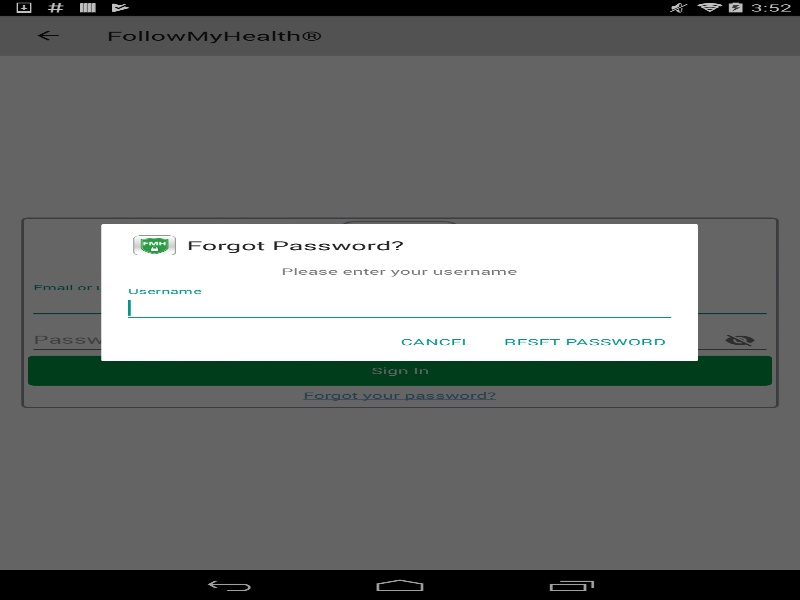Button: (487, 325, 682, 358), (384, 325, 487, 358)
Input: (122, 294, 676, 322)
